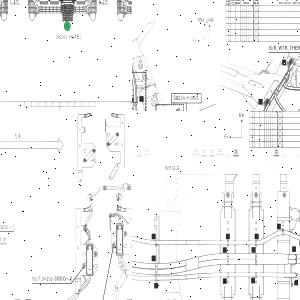PartNumber: (55, 33, 82, 40), (173, 94, 199, 101), (42, 275, 66, 282), (0, 223, 8, 230)
